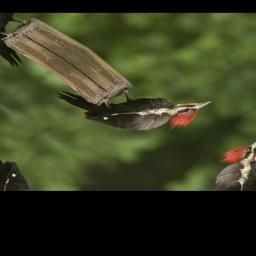Woodpecker: (44, 44, 225, 162)
